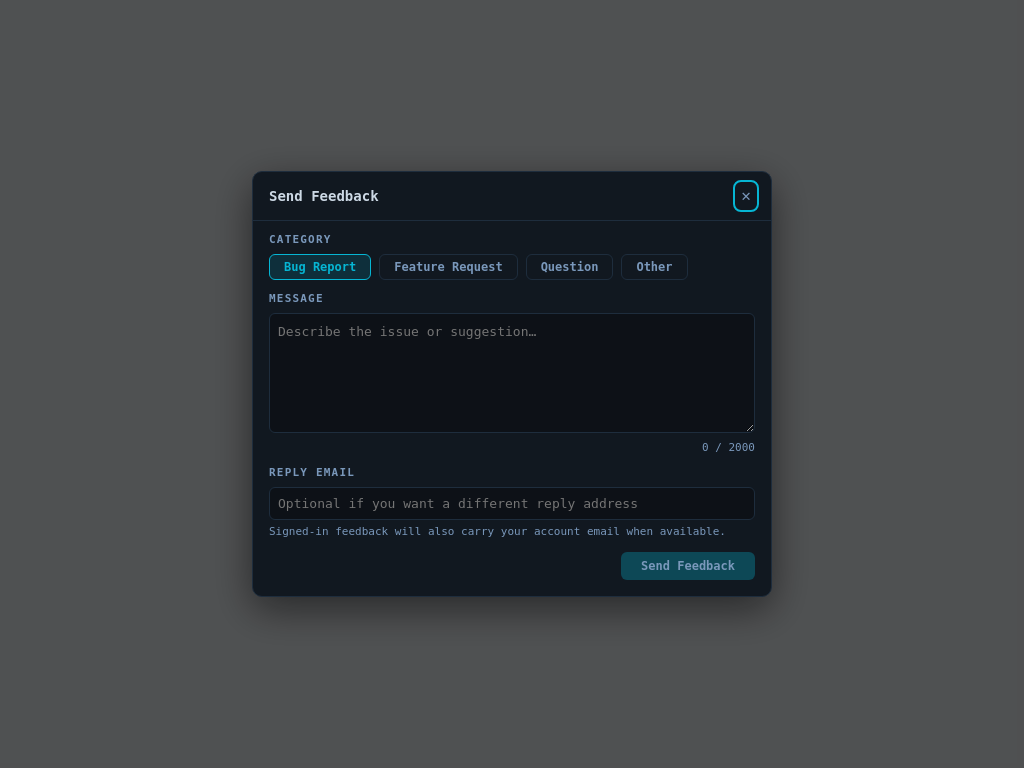
Test: FeedbackModal › shows confirmation message after successful submission
Type "This is a valid test message" into the text box named "feedback message" at (512, 373), box x1=269 y1=313 x2=755 y2=433
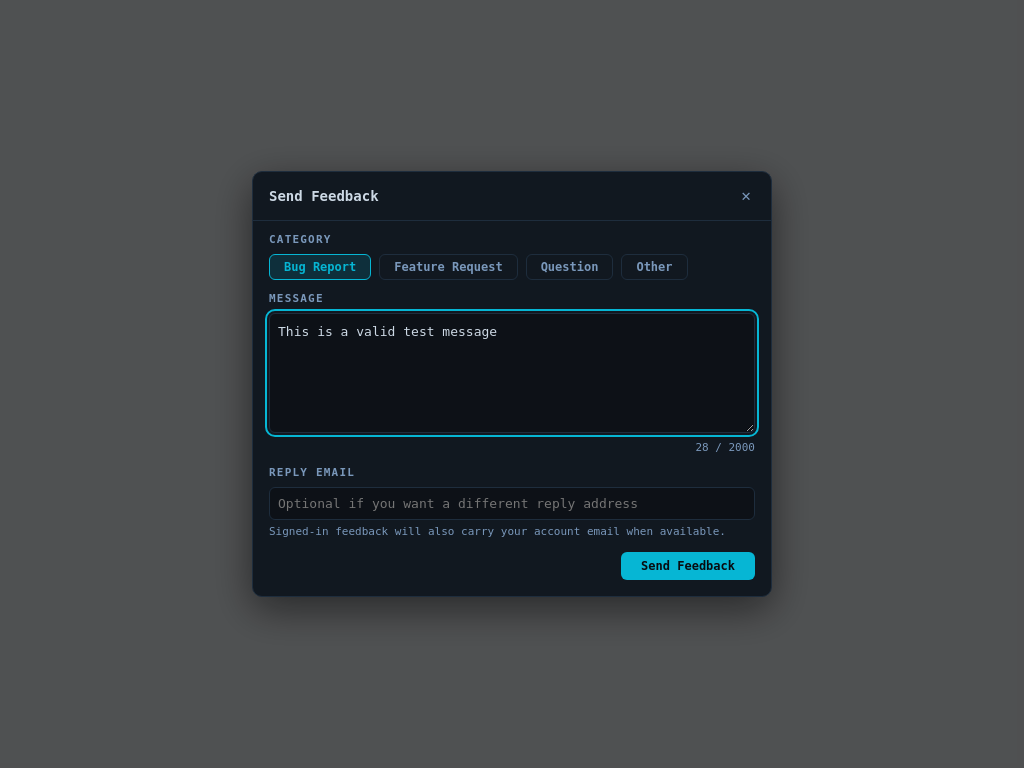
Click the button "Send Feedback" at (688, 566), box x1=621 y1=552 x2=755 y2=580
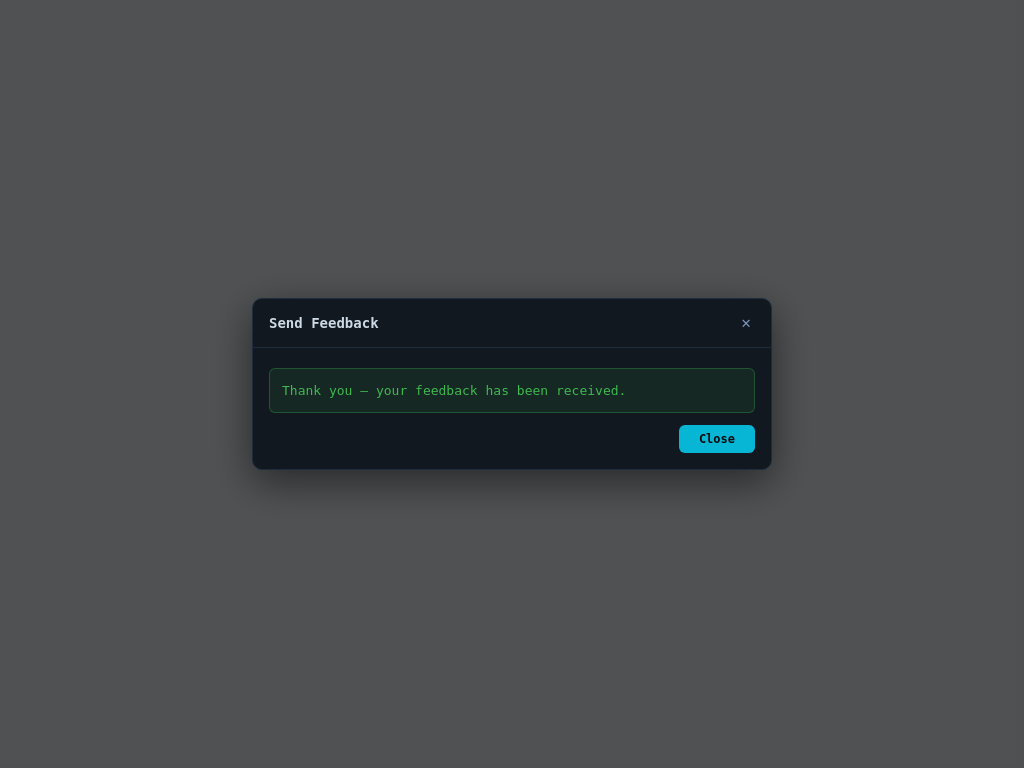
Expected: the text "Thank you — your feedback has been received." is shown, x1=269 y1=368 x2=755 y2=413
